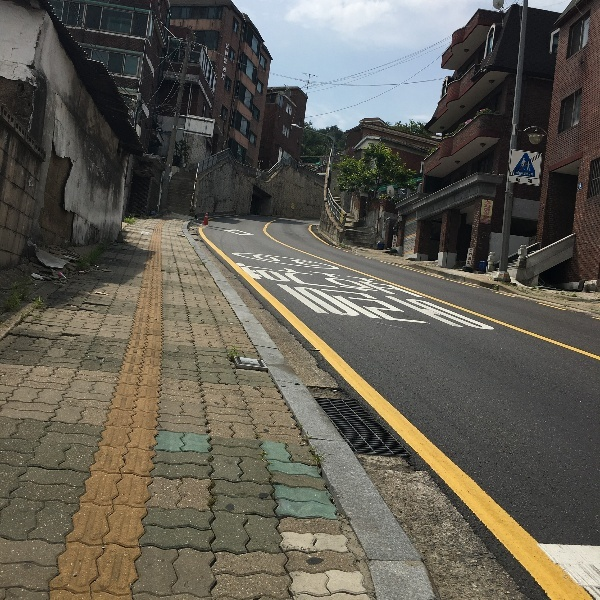text: (273, 283, 288, 333), (289, 283, 304, 333), (305, 283, 320, 333), (321, 283, 336, 333), (337, 283, 352, 333), (353, 283, 368, 333), (369, 283, 384, 333), (385, 283, 400, 333), (401, 283, 416, 333), (417, 283, 432, 333), (433, 283, 448, 333), (449, 283, 464, 333), (465, 283, 480, 333), (481, 283, 496, 333), (241, 262, 256, 299), (257, 262, 272, 299), (273, 262, 288, 299), (289, 262, 304, 299), (305, 262, 320, 299), (321, 262, 336, 299), (337, 262, 352, 299), (353, 262, 368, 299), (369, 262, 384, 299), (385, 262, 400, 299), (401, 262, 416, 299), (226, 42, 240, 81), (497, 283, 507, 333), (417, 262, 426, 299), (241, 250, 256, 271), (257, 250, 272, 271), (273, 250, 288, 271), (289, 250, 304, 271), (305, 250, 320, 271), (321, 250, 336, 271), (230, 250, 240, 271), (337, 250, 346, 271), (485, 200, 496, 216), (470, 249, 480, 266), (236, 262, 240, 299), (516, 177, 528, 184), (483, 215, 496, 221), (394, 236, 400, 248), (517, 171, 528, 177), (529, 177, 533, 184), (529, 171, 533, 177)
